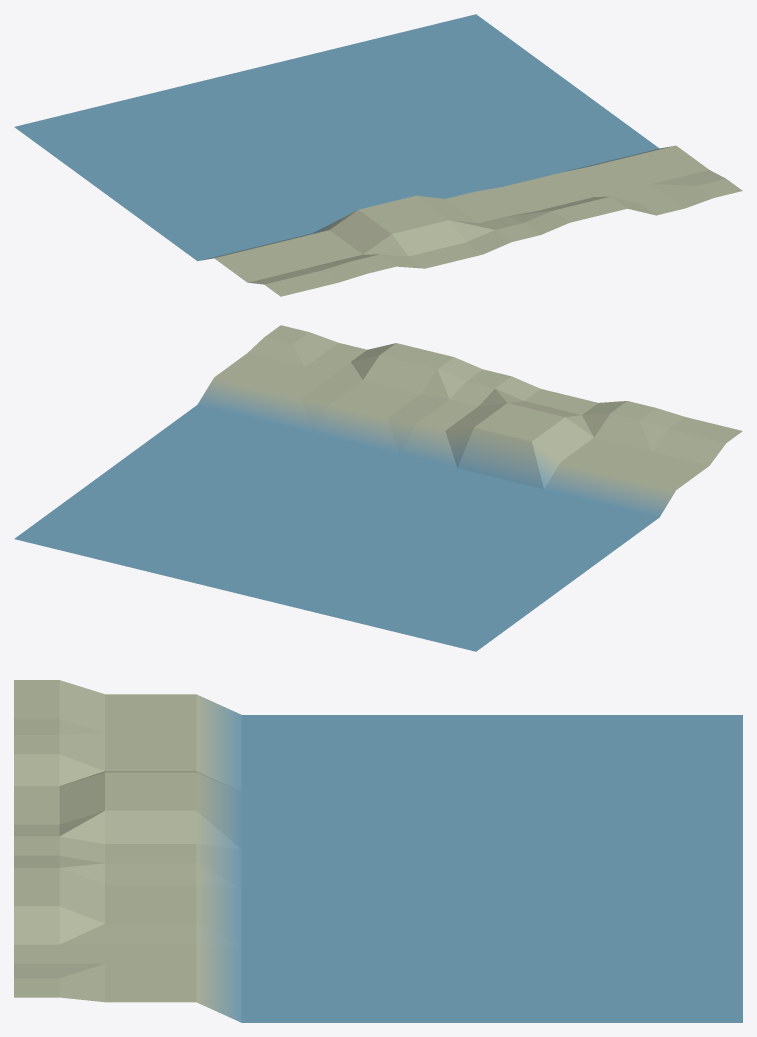
3 views of the same model, one above another, from view 1: azimuth 30°, elevation 25°; view 2: azimuth 150°, elevation 25°; view 3: azimuth 270°, elevation 25° (orthographic). The views are drawn at different scales.
Size of the model in its own units: 32 by 1.91 by 32.
